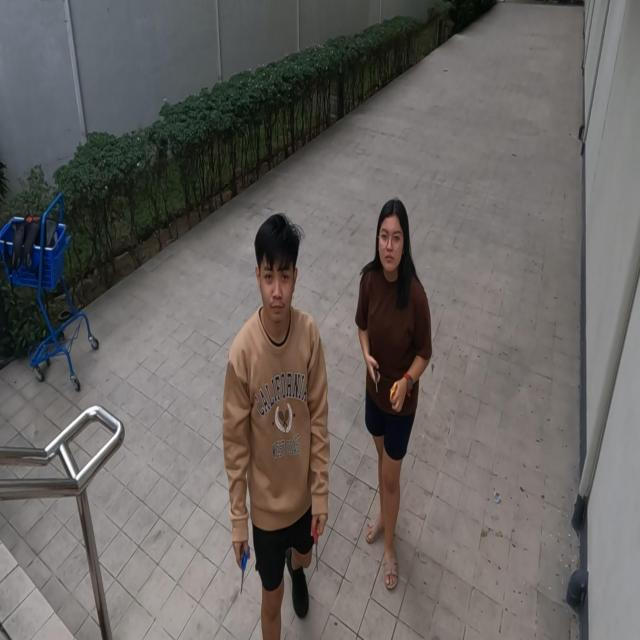scissor: (240, 542, 250, 595), (312, 516, 321, 572)
